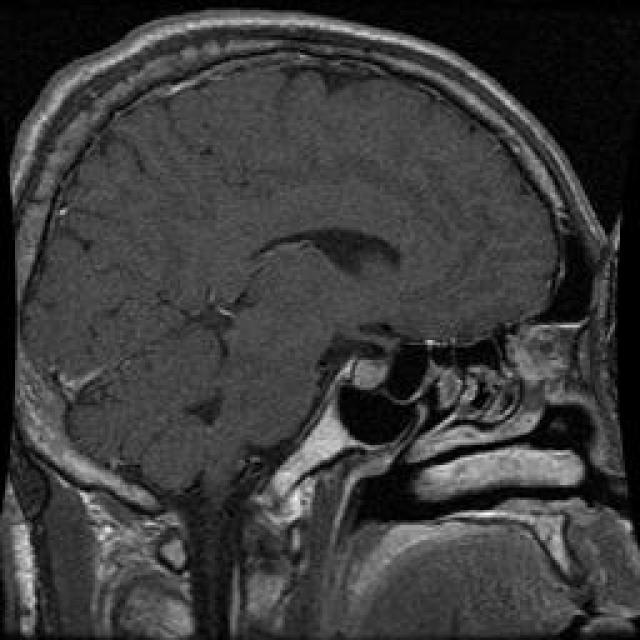pituitary: (250, 394, 358, 560)
